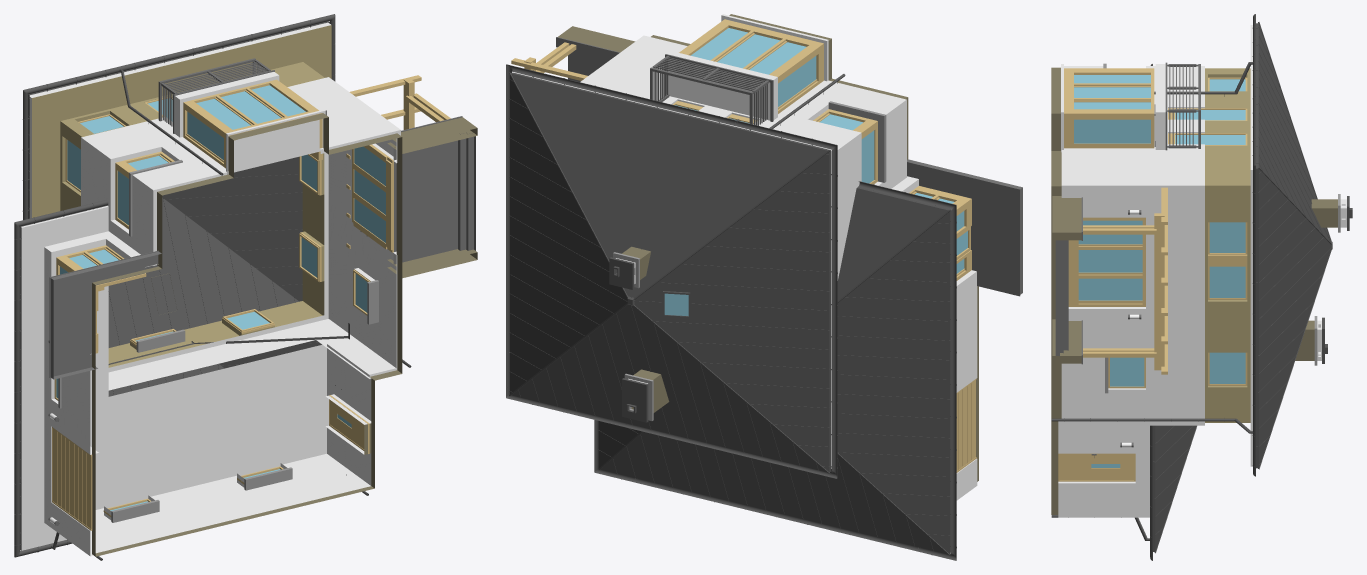
File: chalet.fbx
The picture shows the model from 3 angles, left to right: view 1: azimuth 30°, elevation 25°; view 2: azimuth 150°, elevation 25°; view 3: azimuth 270°, elevation 25°; orthographic projection. The views are drawn at different scales.
Visible parts, largest first — view 1: barrels; view 2: barrels; view 3: barrels.
Part boxes in pixels (left/top/right/bottom): barrels: left=14, top=14, right=477, bottom=560; barrels: left=506, top=14, right=1022, bottom=560; barrels: left=1051, top=14, right=1352, bottom=560.
Bounding box in the file's own units: 1454 × 900 × 1364.
